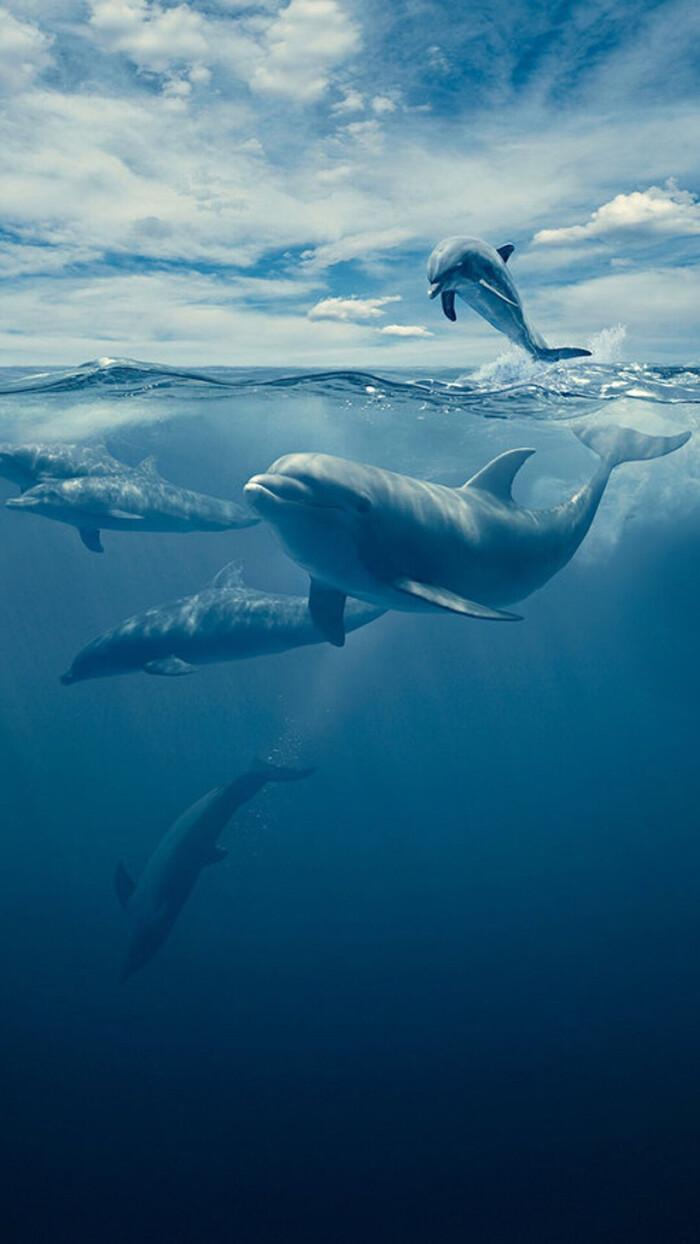fish: (234, 405, 694, 644), (56, 561, 408, 706), (95, 753, 310, 988), (420, 219, 600, 371)
